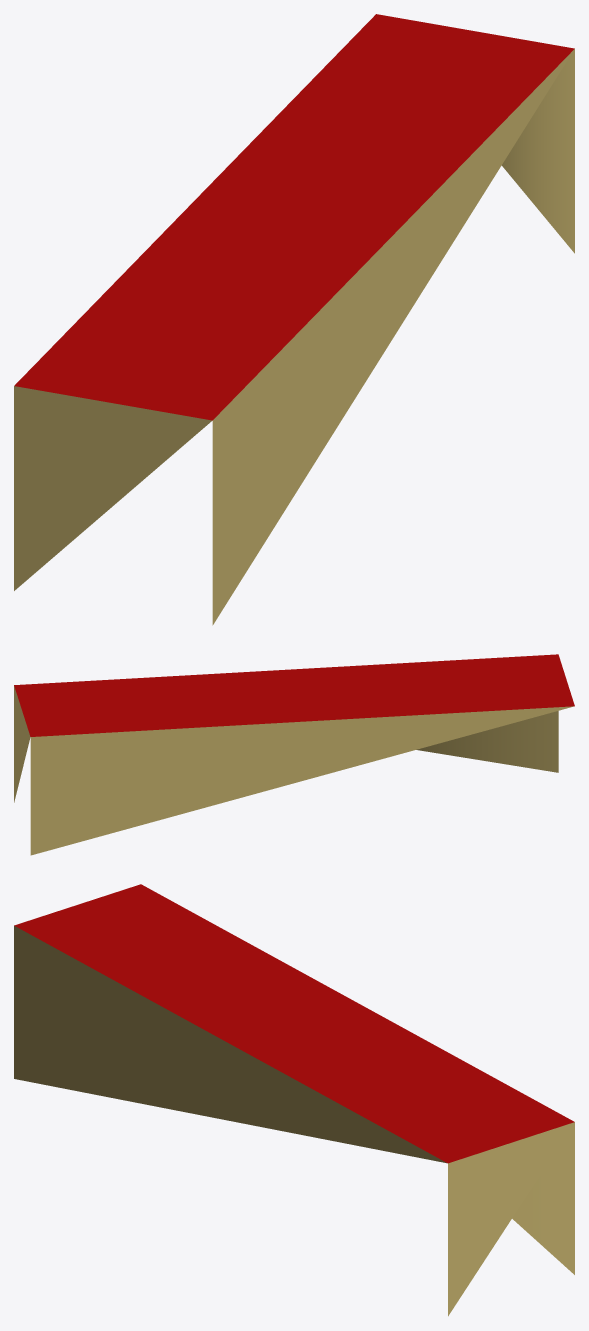
The picture shows the model from 3 angles, top to bottom: view 1: azimuth 30°, elevation 25°; view 2: azimuth 150°, elevation 25°; view 3: azimuth 270°, elevation 25°; orthographic projection. The views are drawn at different scales.
Size of the model in its own units: 48.83 by 12.5 by 41.44.
